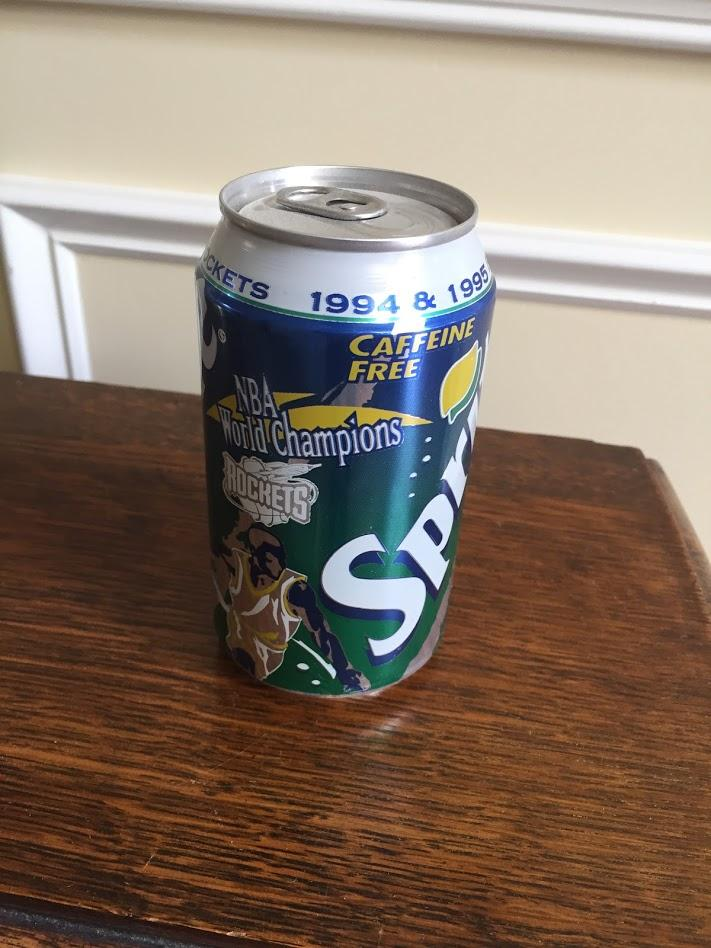sprite_can: (195, 170, 497, 699)
